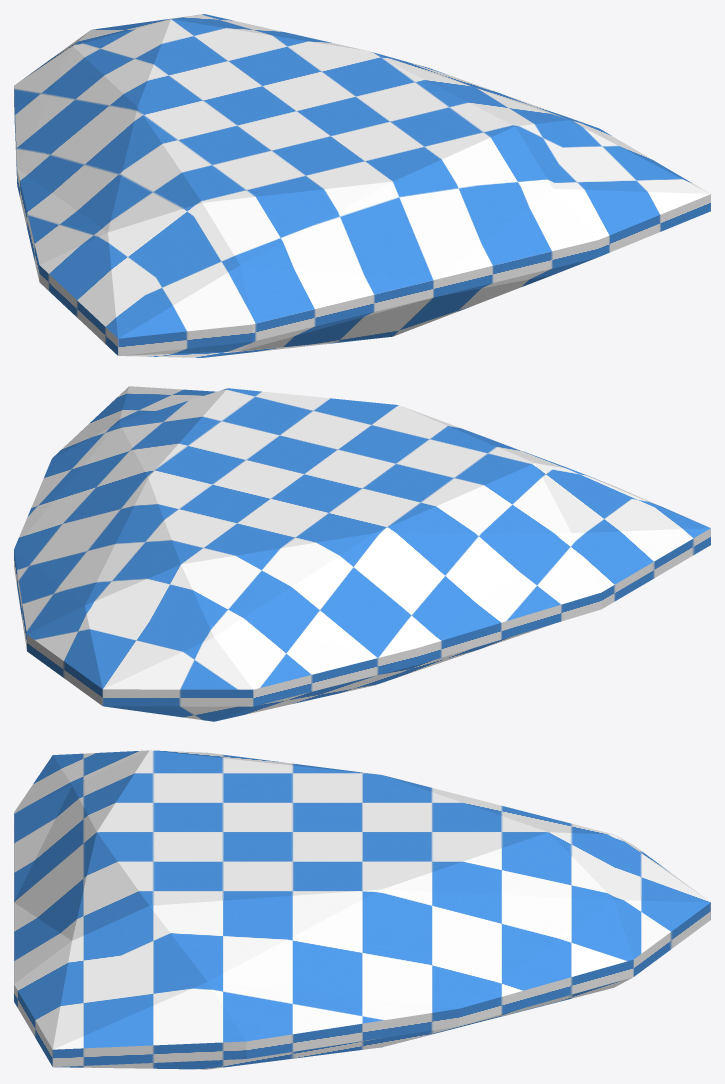
Rendered from TrillionCutDouble.FBX.
3 renders of one model, top to bottom at view 1: azimuth 30°, elevation 25°; view 2: azimuth 150°, elevation 25°; view 3: azimuth 270°, elevation 25°, orthographic. The views are drawn at different scales.
Visible parts, largest first — view 1: TrillionCutDouble; view 2: TrillionCutDouble; view 3: TrillionCutDouble.
Boxes of the visible parts, bbox=[...] form: TrillionCutDouble: bbox=[14, 14, 710, 357]; TrillionCutDouble: bbox=[14, 386, 710, 721]; TrillionCutDouble: bbox=[14, 750, 710, 1069].
Size of the model in its own units: 1.14 by 0.2858 by 1.14.
